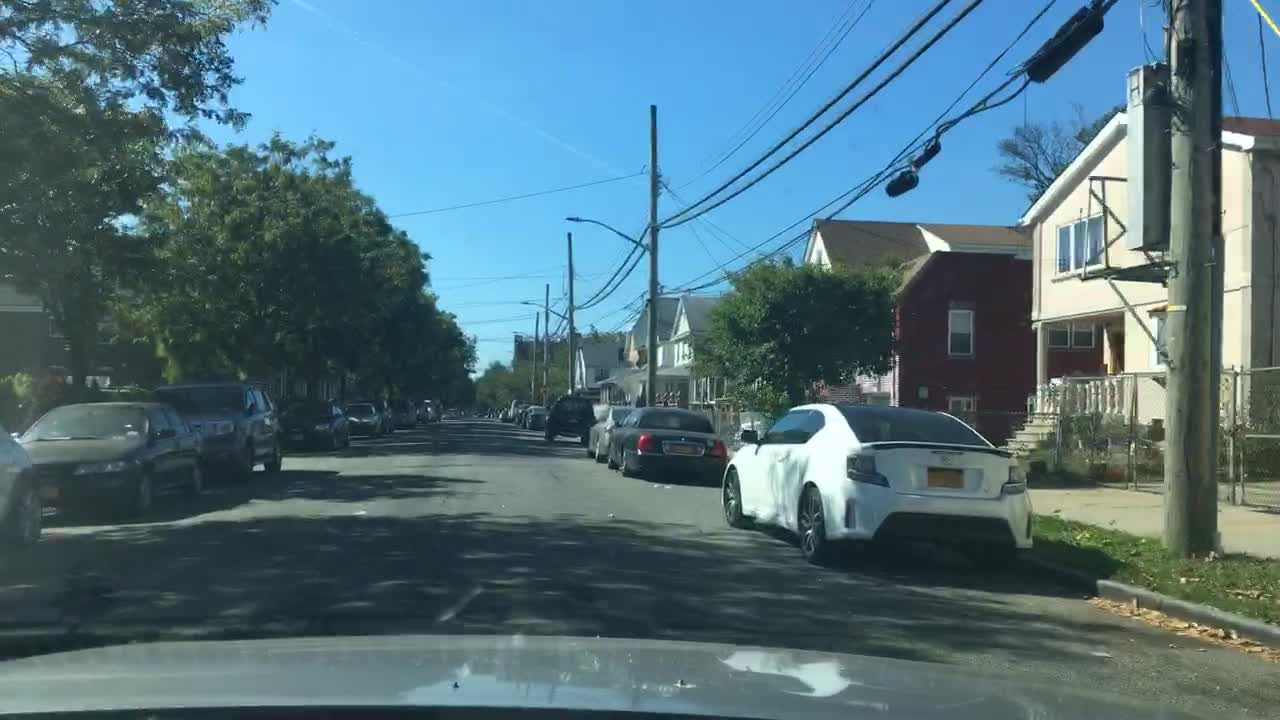car: (720, 399, 1034, 560), (20, 398, 208, 515), (155, 381, 283, 481), (606, 406, 729, 479), (0, 423, 46, 557), (272, 395, 350, 449), (592, 404, 646, 464), (544, 394, 595, 448), (363, 397, 400, 433), (585, 403, 612, 452), (345, 401, 381, 437), (391, 395, 424, 428), (522, 404, 549, 430), (414, 397, 438, 424), (508, 398, 528, 422), (516, 403, 528, 422), (445, 407, 457, 419), (438, 410, 450, 422), (493, 407, 501, 419), (501, 407, 508, 419)
